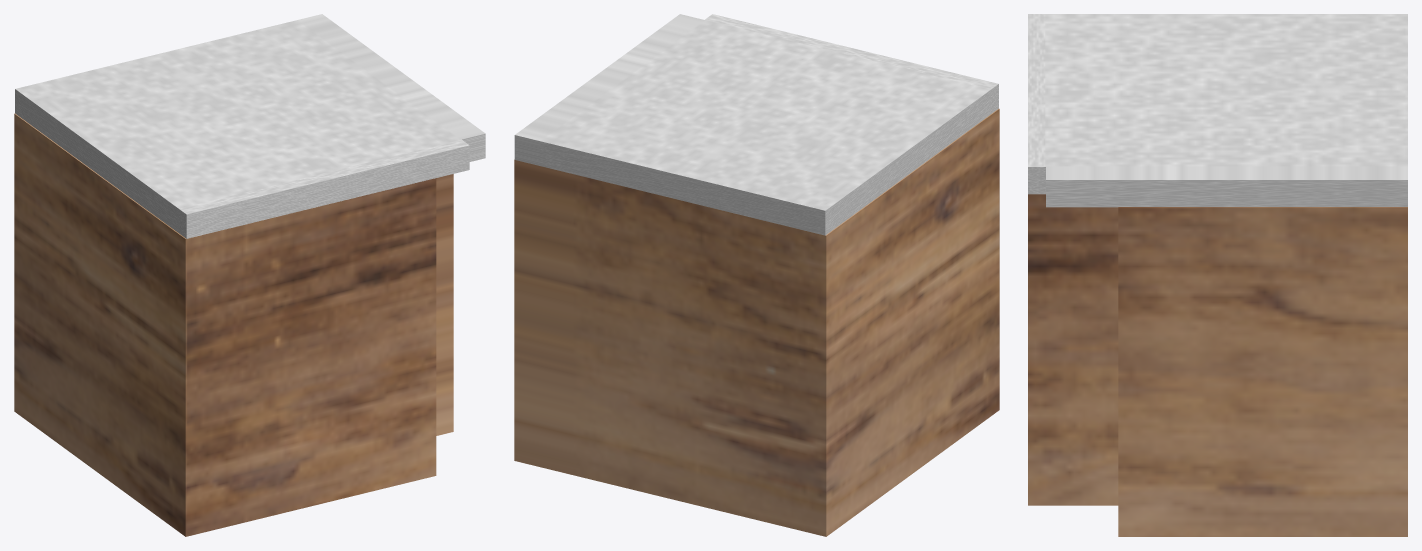
The model's file is KitchenCounterCorner.fbx.
The picture shows the model from 3 angles, left to right: view 1: azimuth 30°, elevation 25°; view 2: azimuth 150°, elevation 25°; view 3: azimuth 270°, elevation 25°; orthographic projection. The views are drawn at different scales.
Visible parts, largest first — view 1: Cube, Cube.001; view 2: Cube, Cube.001; view 3: Cube, Cube.001.
Boxes of the visible parts, x1=… form: Cube: x1=14, y1=113, x2=453, y2=536; Cube.001: x1=15, y1=14, x2=485, y2=238; Cube: x1=514, y1=108, x2=999, y2=536; Cube.001: x1=514, y1=14, x2=998, y2=235; Cube: x1=1028, y1=194, x2=1407, y2=536; Cube.001: x1=1028, y1=14, x2=1407, y2=207.
Size of the model in its own units: 88.62 by 85.32 by 88.47.
